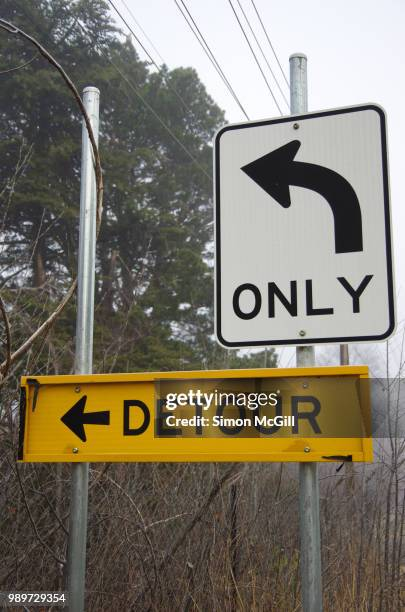Left Turn Only: (220, 139, 369, 325)
